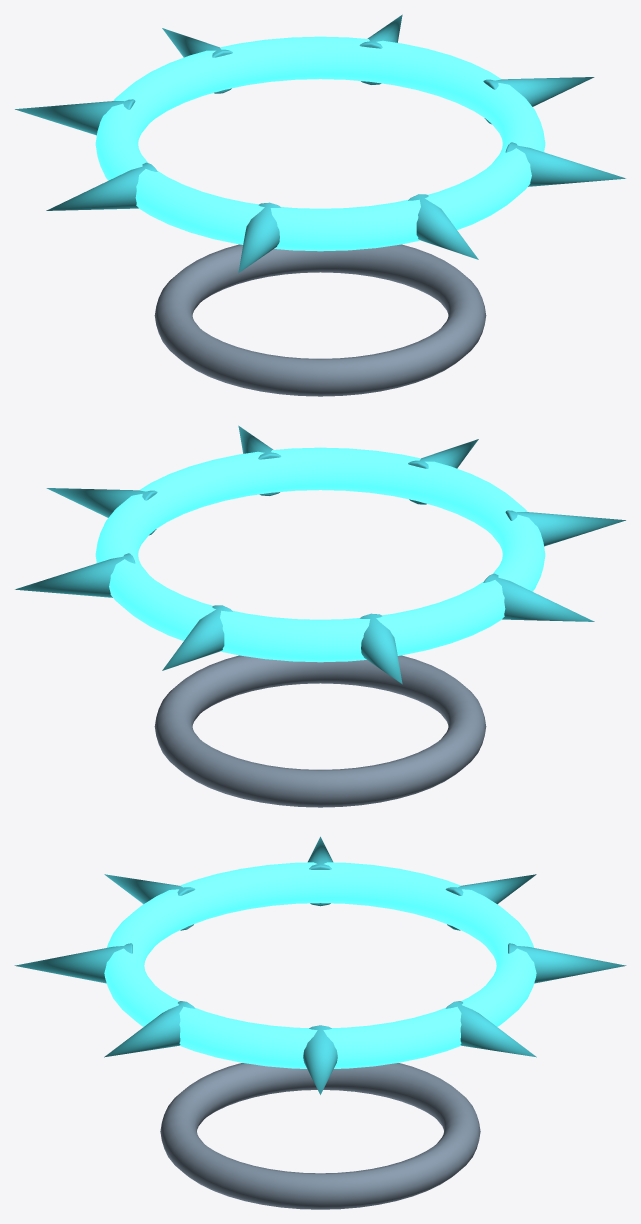
Rendered from crown_v5.glb.
3 renders of one model, top to bottom at view 1: azimuth 30°, elevation 25°; view 2: azimuth 150°, elevation 25°; view 3: azimuth 270°, elevation 25°, orthographic. The views are drawn at different scales.
Visible parts, largest first — view 1: HALO_CROWN_EMISSIVE, HALO_BAND_PRIMARY, HALO_RAY_ACCENT.007, HALO_RAY_ACCENT.004, HALO_RAY_ACCENT.006, HALO_RAY_ACCENT.003, HALO_RAY_ACCENT.005, HALO_RAY_ACCENT, HALO_RAY_ACCENT.002, HALO_RAY_ACCENT.001; view 2: HALO_CROWN_EMISSIVE, HALO_BAND_PRIMARY, HALO_RAY_ACCENT.001, HALO_RAY_ACCENT.004, HALO_RAY_ACCENT.002, HALO_RAY_ACCENT.005, HALO_RAY_ACCENT.003, HALO_RAY_ACCENT, HALO_RAY_ACCENT.006, HALO_RAY_ACCENT.007; view 3: HALO_CROWN_EMISSIVE, HALO_BAND_PRIMARY, HALO_RAY_ACCENT.002, HALO_RAY_ACCENT.006, HALO_RAY_ACCENT.001, HALO_RAY_ACCENT.007, HALO_RAY_ACCENT, HALO_RAY_ACCENT.003, HALO_RAY_ACCENT.005, HALO_RAY_ACCENT.004.
Boxes of the visible parts, x1=… form: HALO_CROWN_EMISSIVE: x1=95, y1=36, x2=545, y2=251; HALO_BAND_PRIMARY: x1=154, y1=244, x2=486, y2=396; HALO_RAY_ACCENT.007: x1=505, y1=142, x2=625, y2=186; HALO_RAY_ACCENT.004: x1=46, y1=162, x2=157, y2=210; HALO_RAY_ACCENT.006: x1=408, y1=194, x2=478, y2=259; HALO_RAY_ACCENT.003: x1=15, y1=99, x2=135, y2=135; HALO_RAY_ACCENT.005: x1=238, y1=202, x2=280, y2=273; HALO_RAY_ACCENT: x1=483, y1=77, x2=594, y2=124; HALO_RAY_ACCENT.002: x1=162, y1=28, x2=232, y2=93; HALO_RAY_ACCENT.001: x1=359, y1=14, x2=402, y2=84; HALO_CROWN_EMISSIVE: x1=95, y1=447, x2=545, y2=662; HALO_BAND_PRIMARY: x1=154, y1=655, x2=486, y2=807; HALO_RAY_ACCENT.001: x1=15, y1=553, x2=135, y2=597; HALO_RAY_ACCENT.004: x1=483, y1=573, x2=594, y2=621; HALO_RAY_ACCENT.002: x1=162, y1=605, x2=232, y2=670; HALO_RAY_ACCENT.005: x1=505, y1=510, x2=625, y2=546; HALO_RAY_ACCENT.003: x1=360, y1=613, x2=402, y2=684; HALO_RAY_ACCENT: x1=46, y1=488, x2=157, y2=535; HALO_RAY_ACCENT.006: x1=408, y1=439, x2=478, y2=504; HALO_RAY_ACCENT.007: x1=238, y1=425, x2=281, y2=495; HALO_CROWN_EMISSIVE: x1=104, y1=862, x2=536, y2=1068; HALO_BAND_PRIMARY: x1=160, y1=1063, x2=480, y2=1209; HALO_RAY_ACCENT.002: x1=508, y1=943, x2=626, y2=983; HALO_RAY_ACCENT.006: x1=14, y1=943, x2=132, y2=983; HALO_RAY_ACCENT.001: x1=446, y1=1001, x2=536, y2=1057; HALO_RAY_ACCENT.007: x1=104, y1=1001, x2=194, y2=1057; HALO_RAY_ACCENT: x1=303, y1=1025, x2=337, y2=1094; HALO_RAY_ACCENT.003: x1=445, y1=874, x2=536, y2=930; HALO_RAY_ACCENT.005: x1=104, y1=874, x2=195, y2=930; HALO_RAY_ACCENT.004: x1=308, y1=836, x2=332, y2=906.
Size of the model in its own units: 2.68 by 0.9781 by 2.68.
